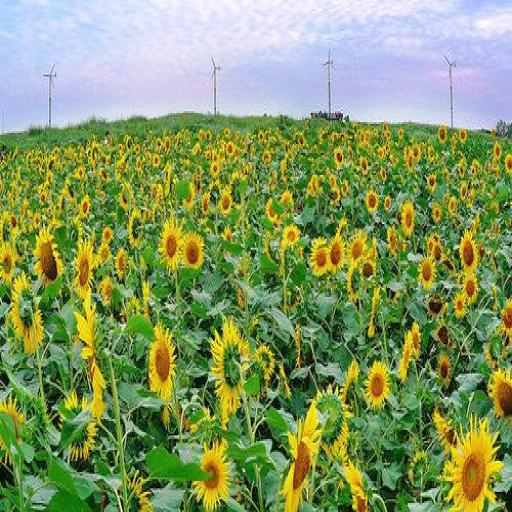sunflower: (443, 417, 501, 512), (283, 391, 327, 512), (210, 317, 246, 423), (10, 272, 43, 354), (191, 444, 230, 512), (31, 224, 61, 290), (150, 324, 175, 401), (74, 235, 96, 297), (366, 357, 391, 408), (488, 366, 512, 419), (161, 222, 184, 274), (180, 235, 204, 272), (310, 235, 331, 277), (457, 230, 477, 270), (345, 228, 369, 260), (398, 330, 412, 381), (328, 230, 343, 273), (401, 199, 417, 235), (462, 266, 478, 302), (419, 257, 435, 288), (218, 189, 233, 215), (130, 210, 142, 242), (282, 224, 300, 242)
